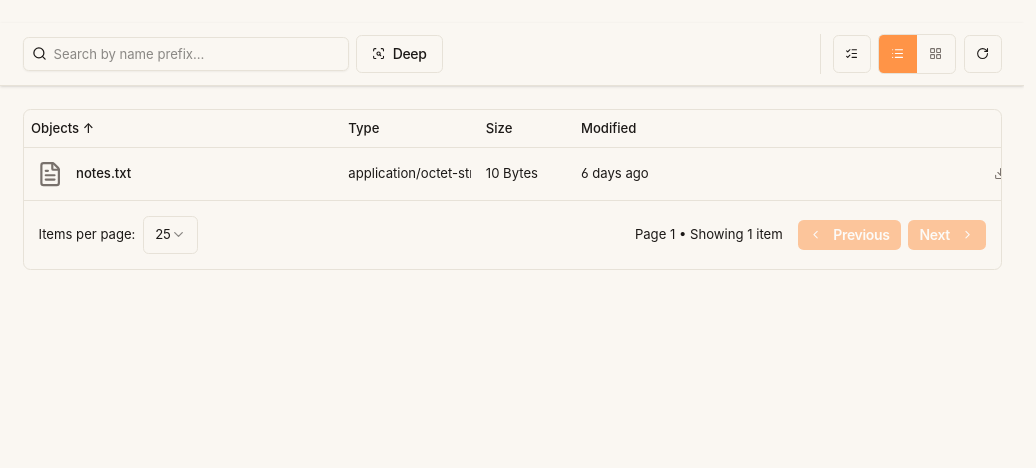
ObjectBrowserView preferences › opens the icon context menu without entering selection mode
The width and height of the screenshot is (1036, 468).
Click the button named "Icon view" at (936, 54), box [917,35,955,73]
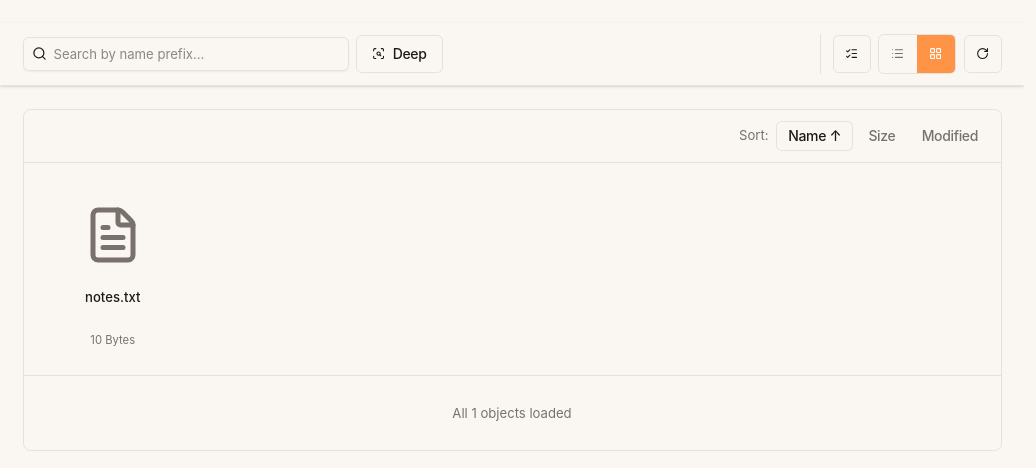
Right-click the list item "notes.txt" at (113, 269), box [38,178,187,360]
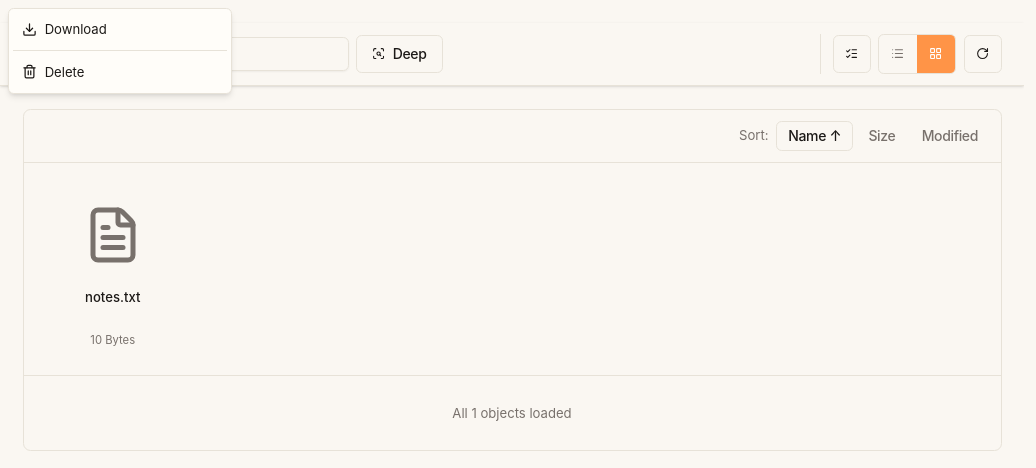
Expected: the menu named "Object actions" is shown, [8,8,232,94]
